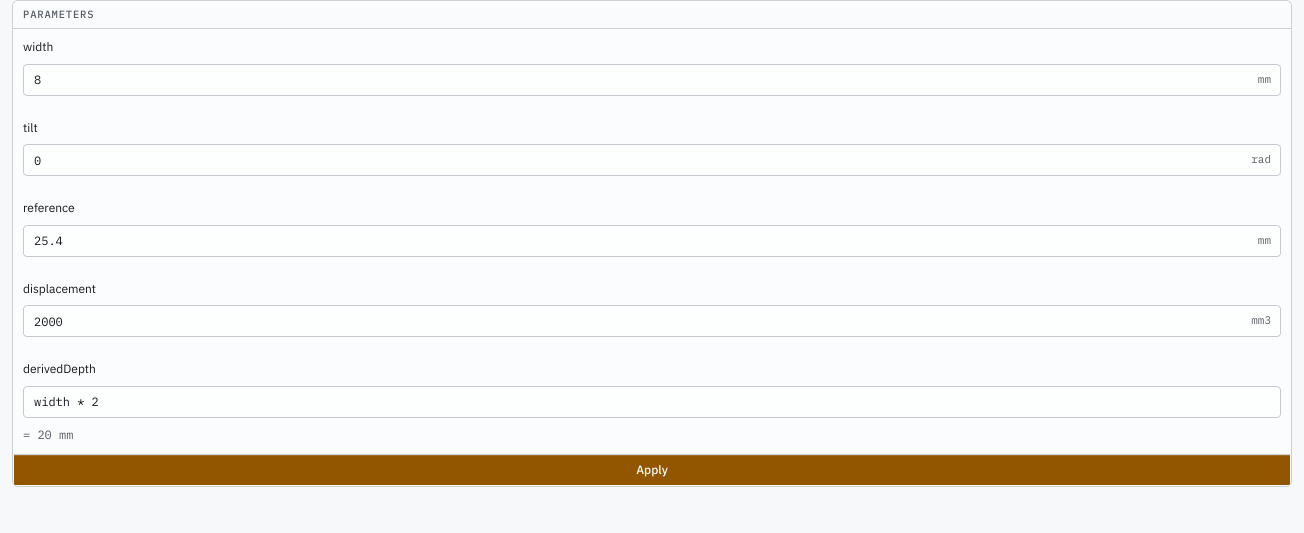
CadParameterPanel › surfaces an apply refusal in the panel error region
Replace the text in the number field labelled "width" with "6" at x=652, y=80, box [23, 64, 1281, 96]
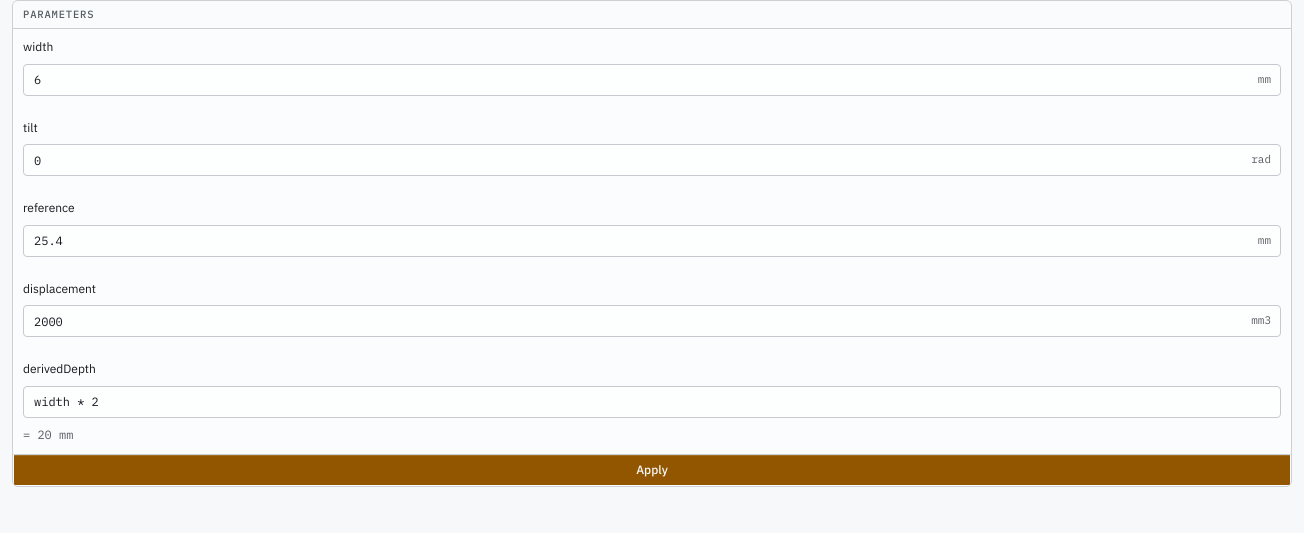
Submit the form named "Parameters"
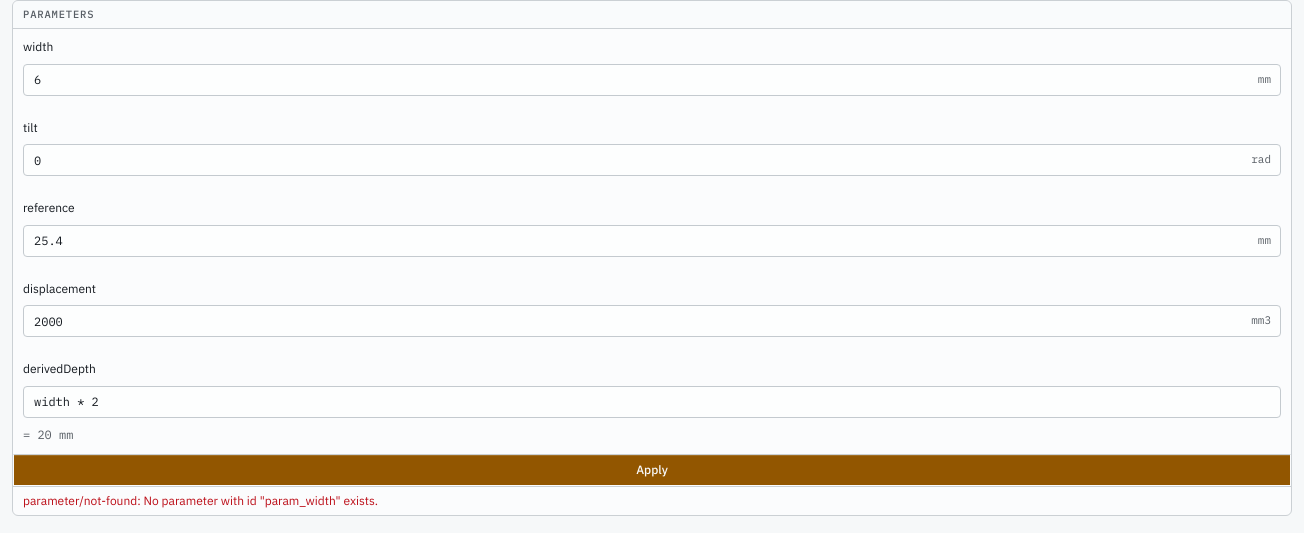
Expected: the message reads "parameter/not-found: No parameter with id \"param_width\" exists.", [23, 492, 378, 508]
